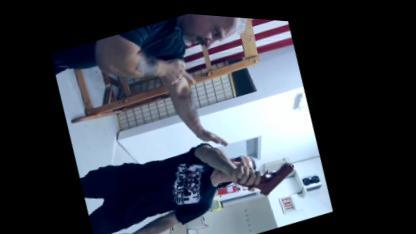pistol: (237, 151, 307, 202)
